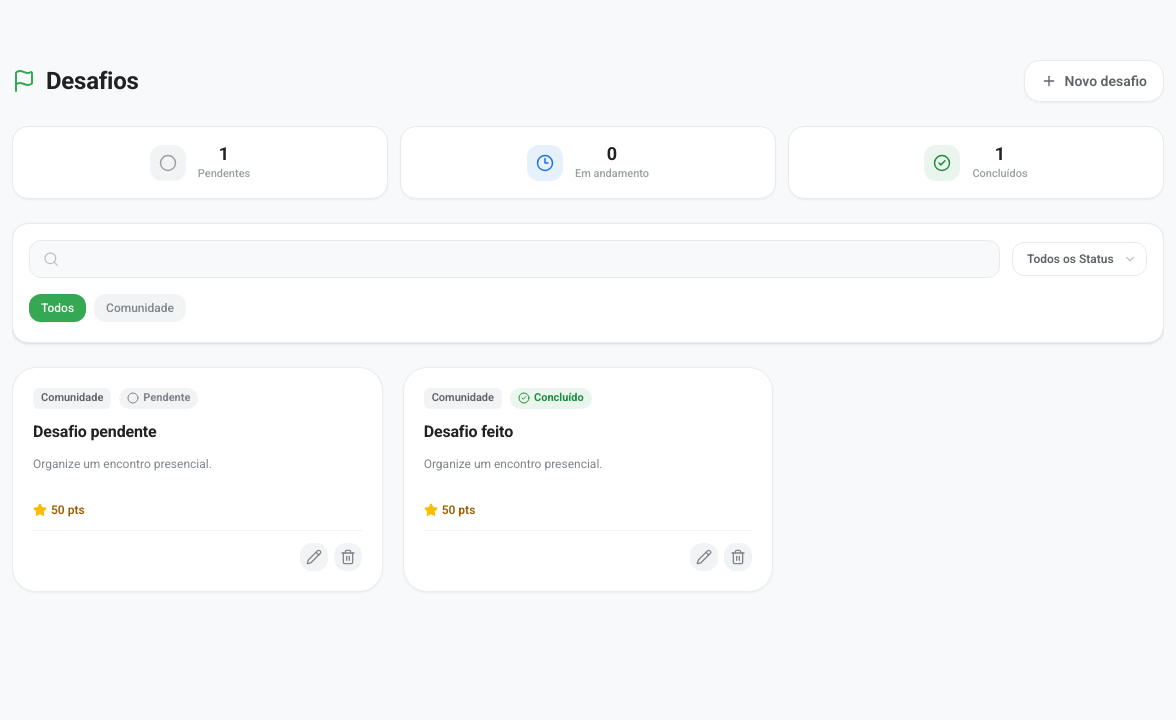
ChallengesModule › filters by status
Select "Concluído" in the dropdown named "Filtrar por status": [1080, 259] box [1012,242,1147,276]
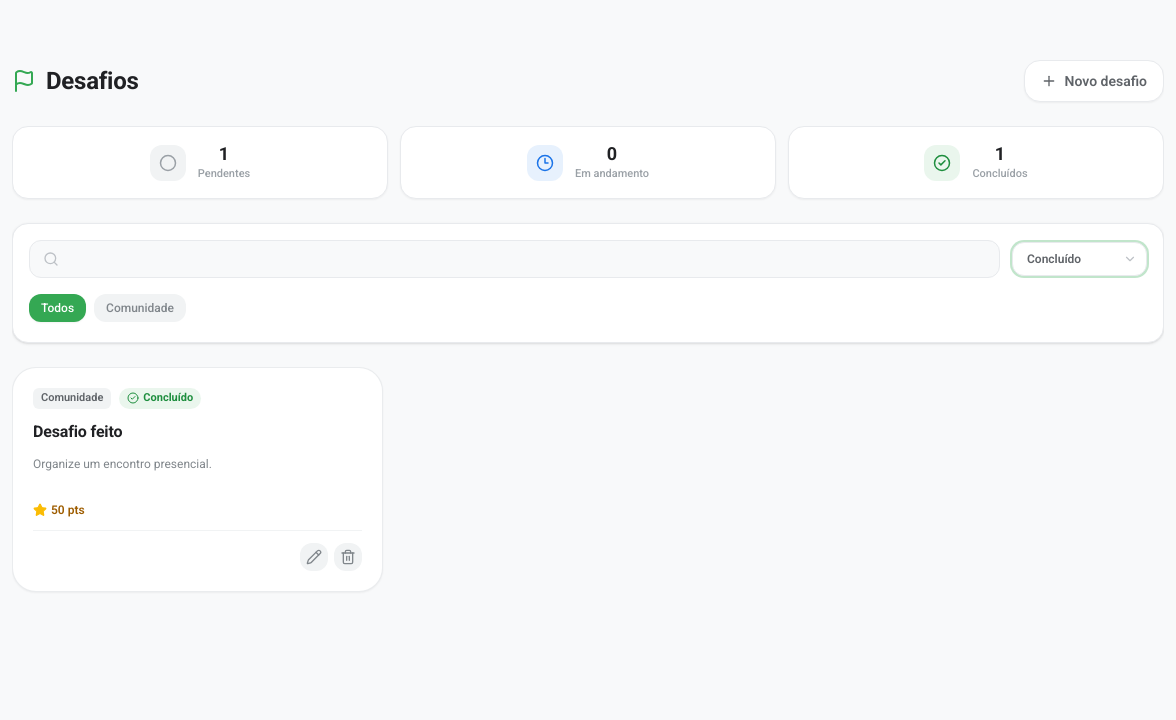
Expected: the heading "Desafio feito" is shown, [33,422,122,440]
Now the heading "Desafio pendente" is gone
